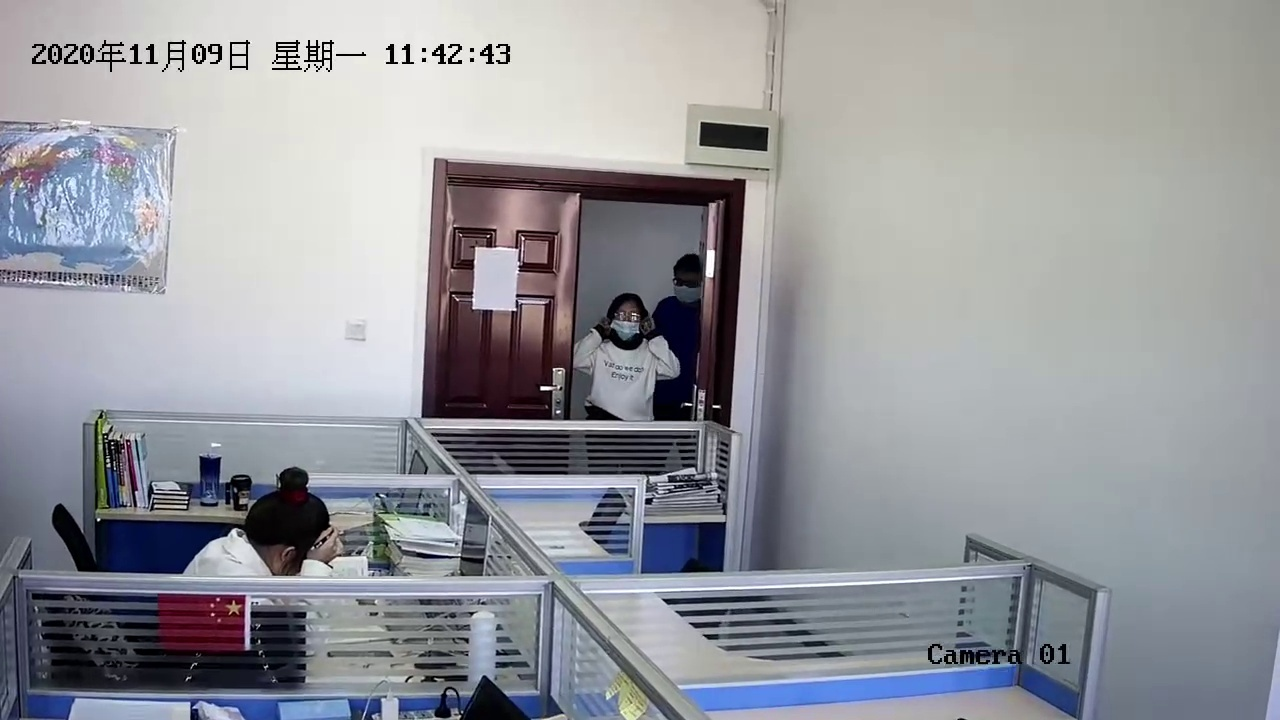mask: (606, 290, 651, 347), (665, 257, 707, 311)
